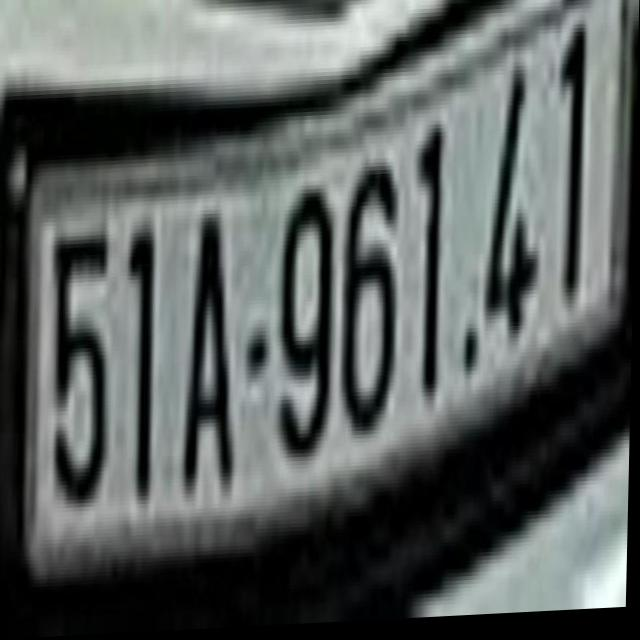1: (415, 86, 458, 413), (552, 11, 592, 334), (124, 210, 165, 503)
4: (481, 21, 541, 368)
5: (49, 228, 115, 517)
6: (343, 139, 402, 440)
9: (276, 176, 341, 473)
A: (180, 180, 243, 489)
